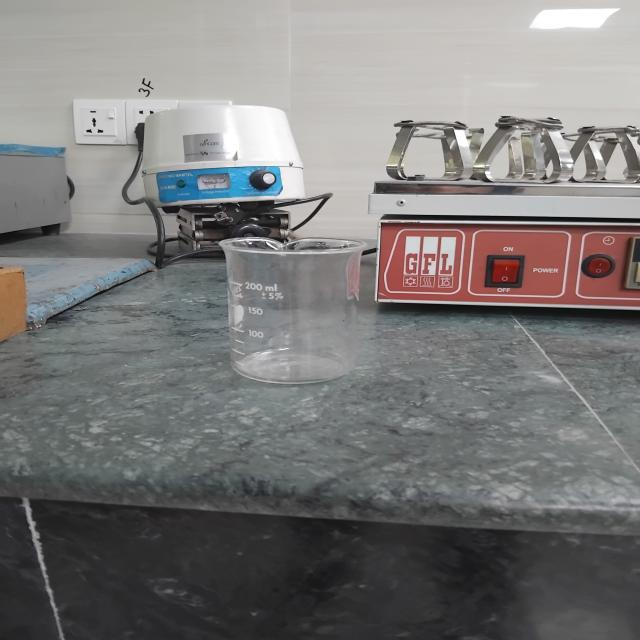Beaker: (167, 195, 427, 412)
